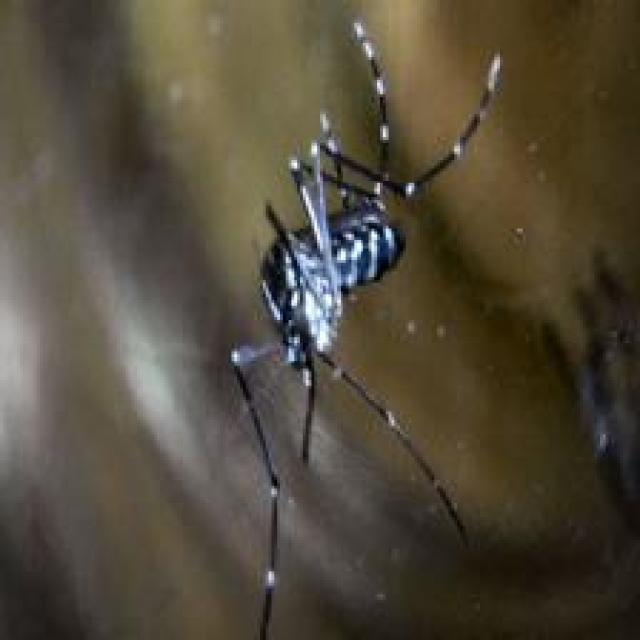Aedes albopictus: (225, 17, 504, 640)
